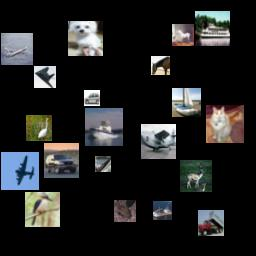airplane: (1, 152, 39, 190), (141, 124, 176, 159), (1, 33, 33, 65), (34, 66, 56, 88)
automobile: (44, 143, 79, 178), (84, 90, 100, 106)
bird: (25, 192, 60, 227), (26, 115, 52, 141)
cat: (206, 105, 244, 143)
deer: (180, 160, 212, 192)
dog: (68, 21, 103, 56)
frog: (114, 200, 136, 222)
ship: (85, 108, 123, 146), (195, 11, 230, 46), (172, 88, 201, 117), (153, 201, 172, 220), (95, 156, 111, 172)
truck: (198, 210, 224, 236)
